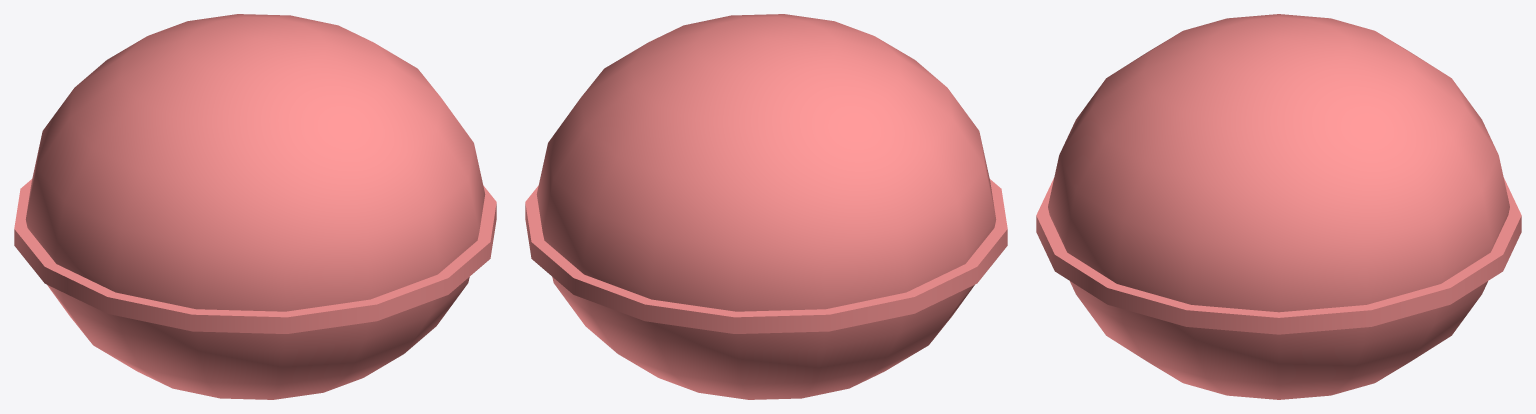
Rendered from focal_lens.glb.
3 views of the same model, side by side, from view 1: azimuth 30°, elevation 25°; view 2: azimuth 150°, elevation 25°; view 3: azimuth 270°, elevation 25° (orthographic).
Visible parts, largest first — view 1: focal_lens; view 2: focal_lens; view 3: focal_lens.
Part boxes in pixels (x1,y1,x2,y2): focal_lens: (14, 14, 496, 399); focal_lens: (525, 14, 1007, 399); focal_lens: (1036, 14, 1521, 399).
Size of the model in its own units: 1.05 by 0.8 by 1.05.
